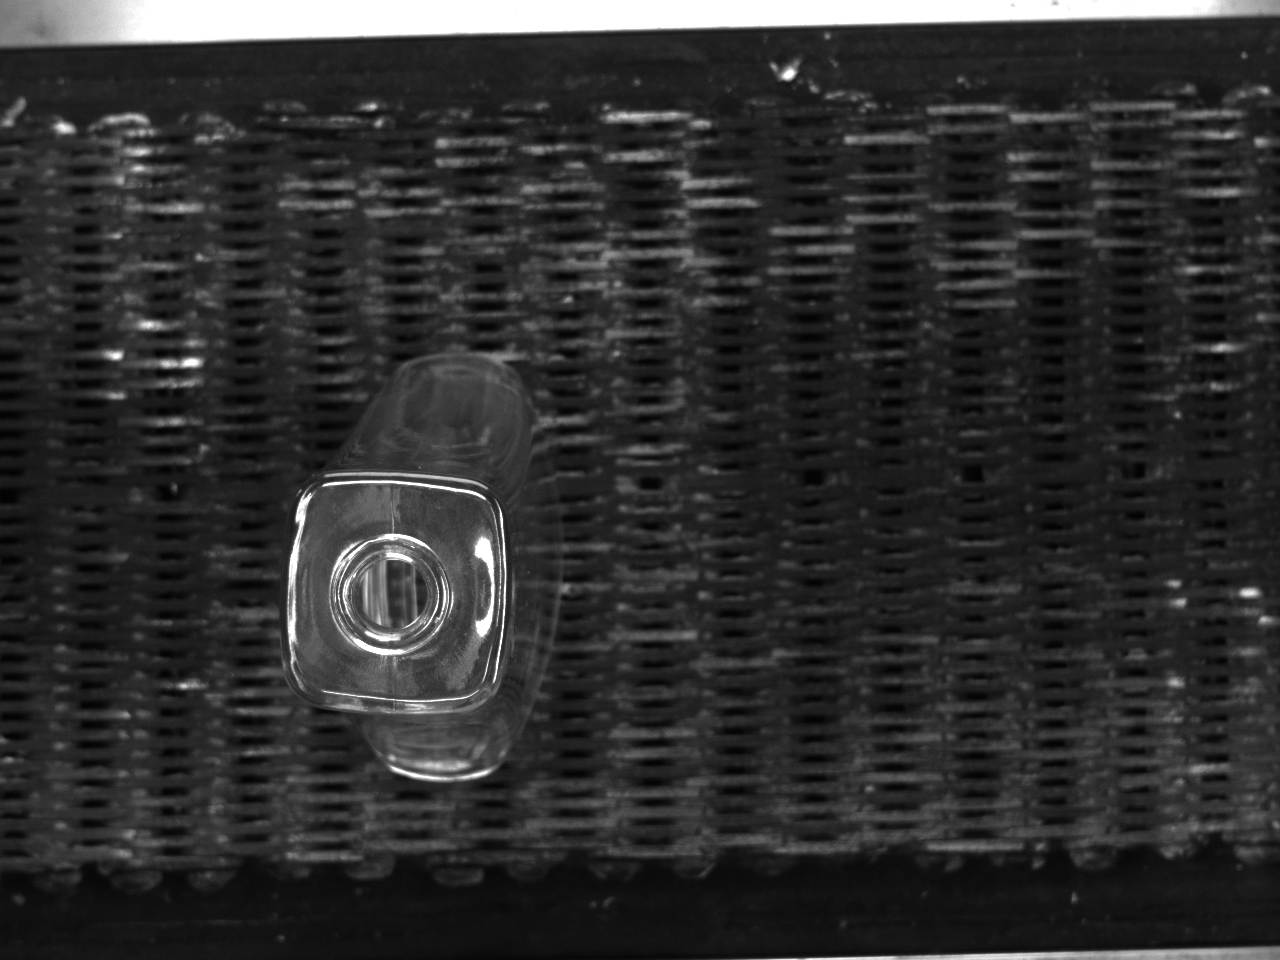bottleneck: (329, 533, 453, 656)
